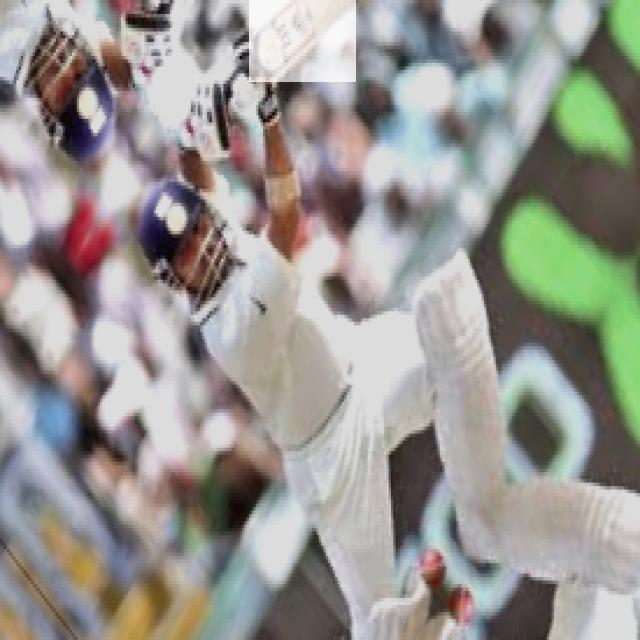bat: (250, 0, 357, 83)
